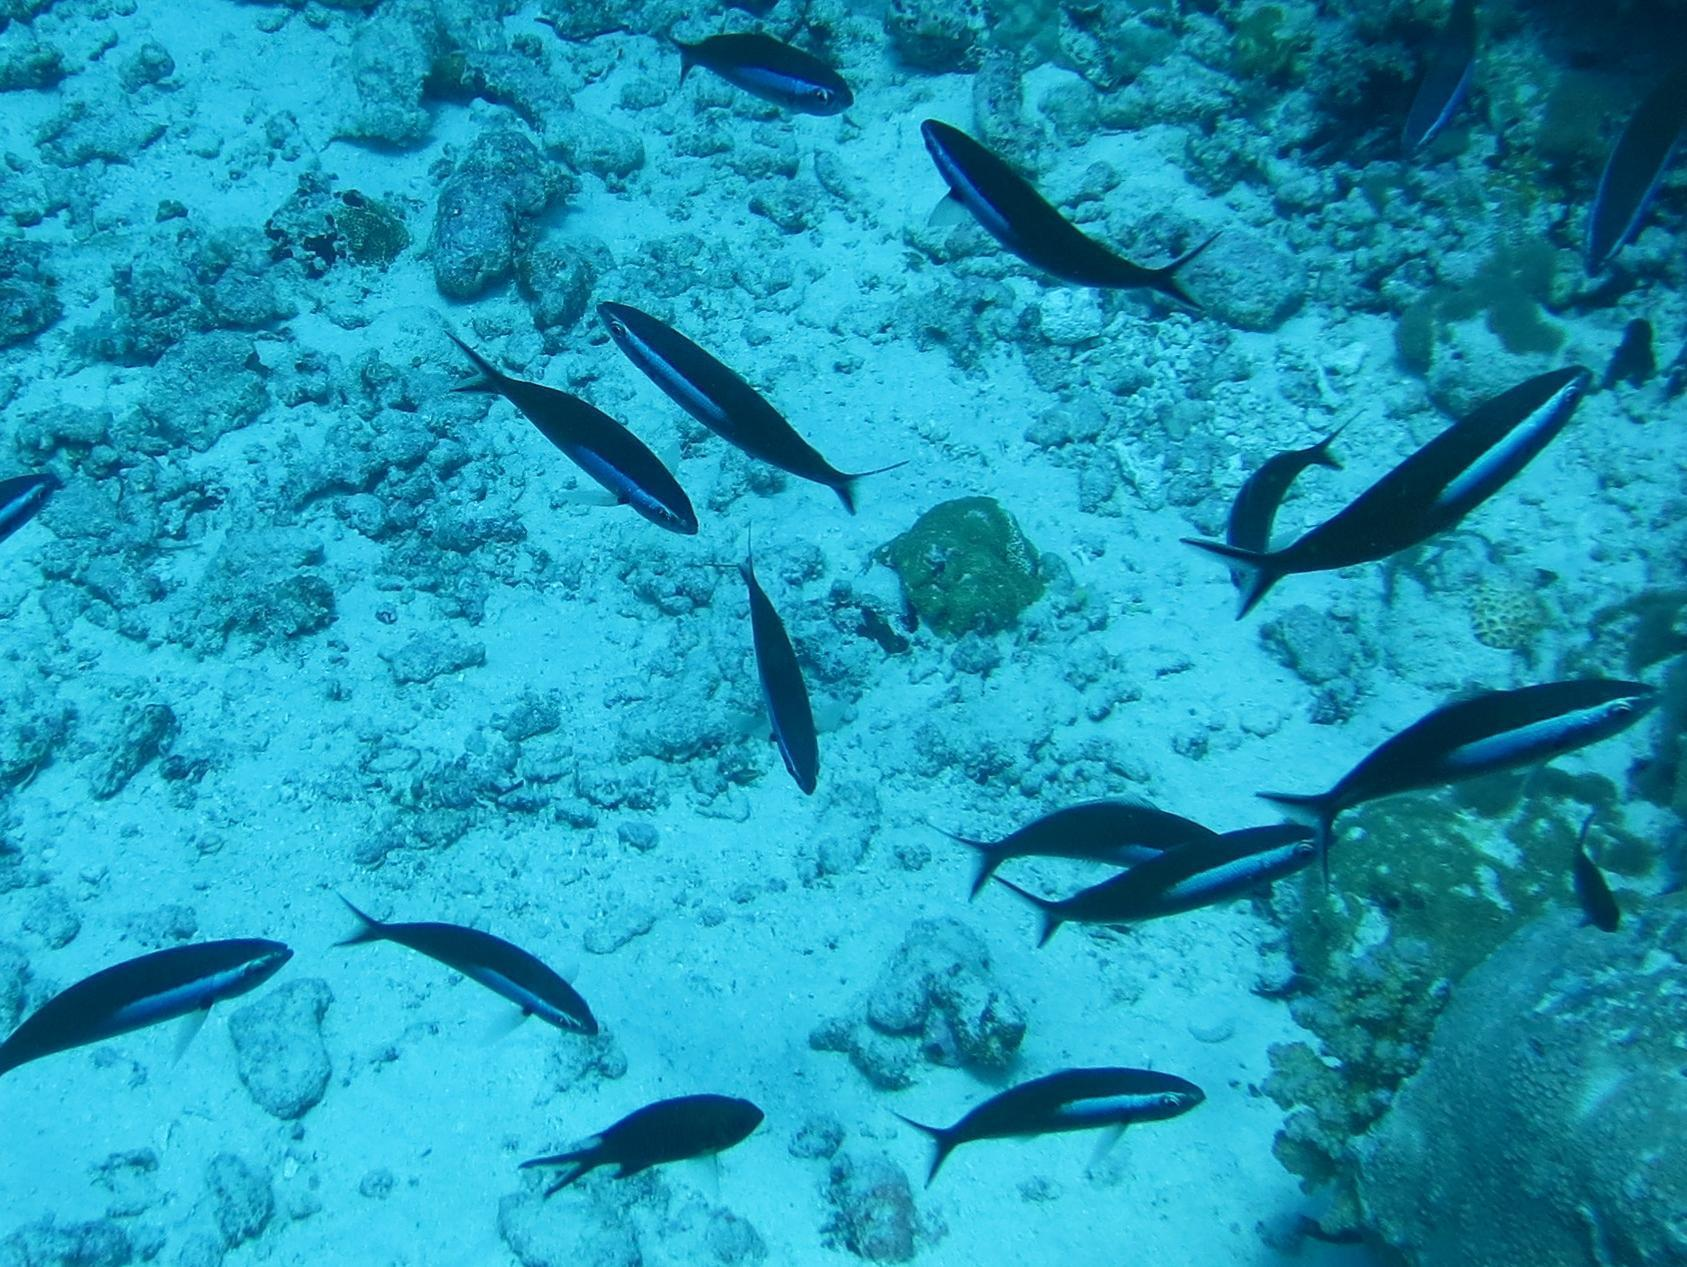Pterocaesio tile: (1183, 355, 1606, 643), (306, 865, 628, 1082), (448, 306, 692, 574), (718, 554, 859, 809)
